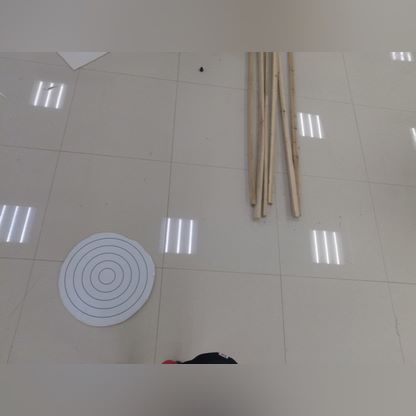circle: (52, 228, 154, 324)
